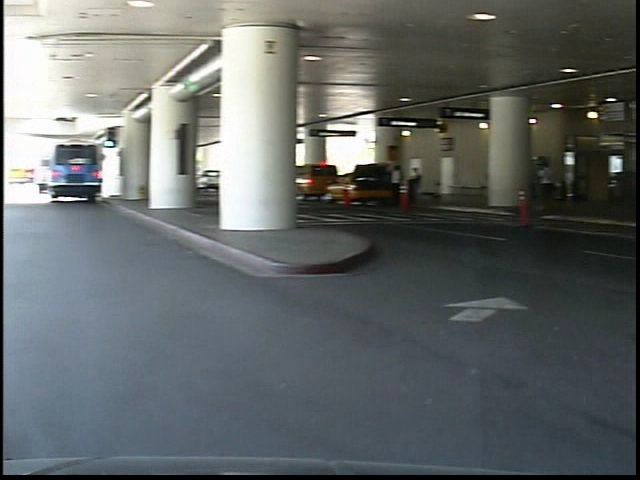person: (538, 157, 564, 210)
